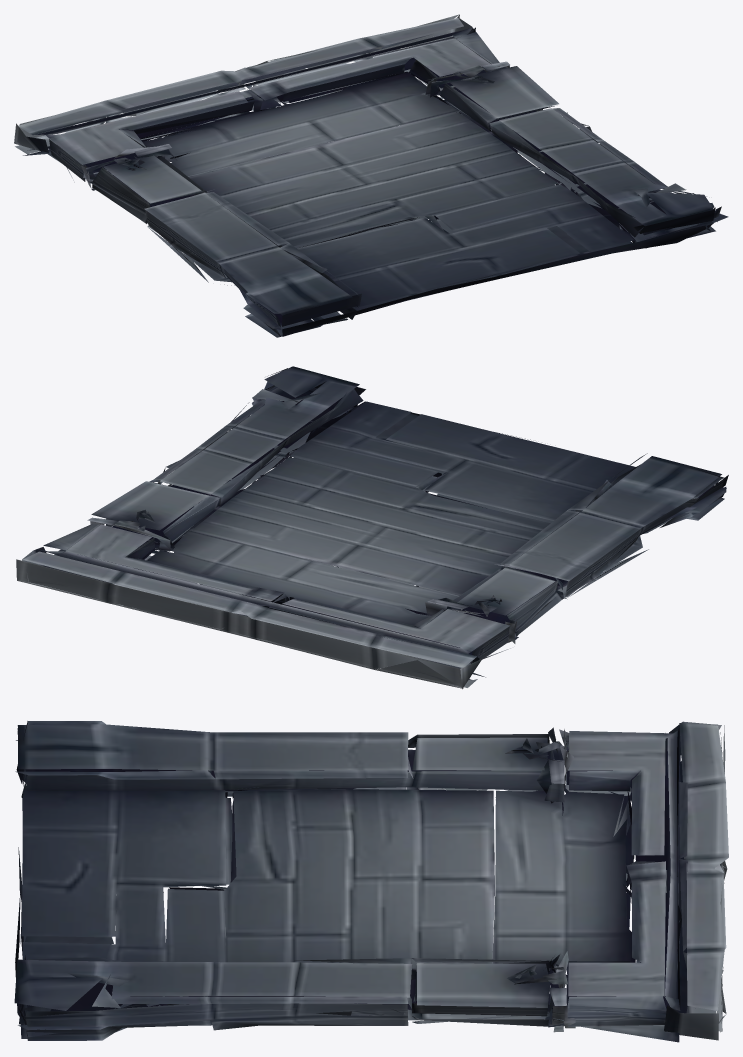
File: arc_floor_2m.glb
The picture shows the model from 3 angles, top to bottom: view 1: azimuth 30°, elevation 25°; view 2: azimuth 150°, elevation 25°; view 3: azimuth 270°, elevation 25°; orthographic projection. The views are drawn at different scales.
Visible parts, largest first — view 1: MetricPlacement; view 2: MetricPlacement; view 3: MetricPlacement.
Part boxes in pixels (left/top/right/bottom): MetricPlacement: left=14, top=14, right=728, bottom=337; MetricPlacement: left=16, top=366, right=728, bottom=689; MetricPlacement: left=14, top=721, right=728, bottom=1042.
Size of the model in its own units: 2 by 0.12 by 2.
Materials: 1 (1 with a texture image).
